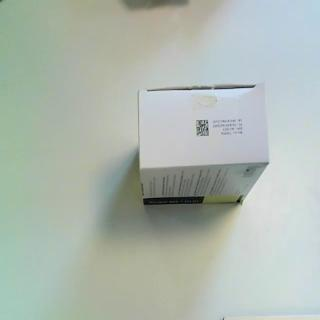fentanyl50ug_ml: (137, 80, 272, 206)
